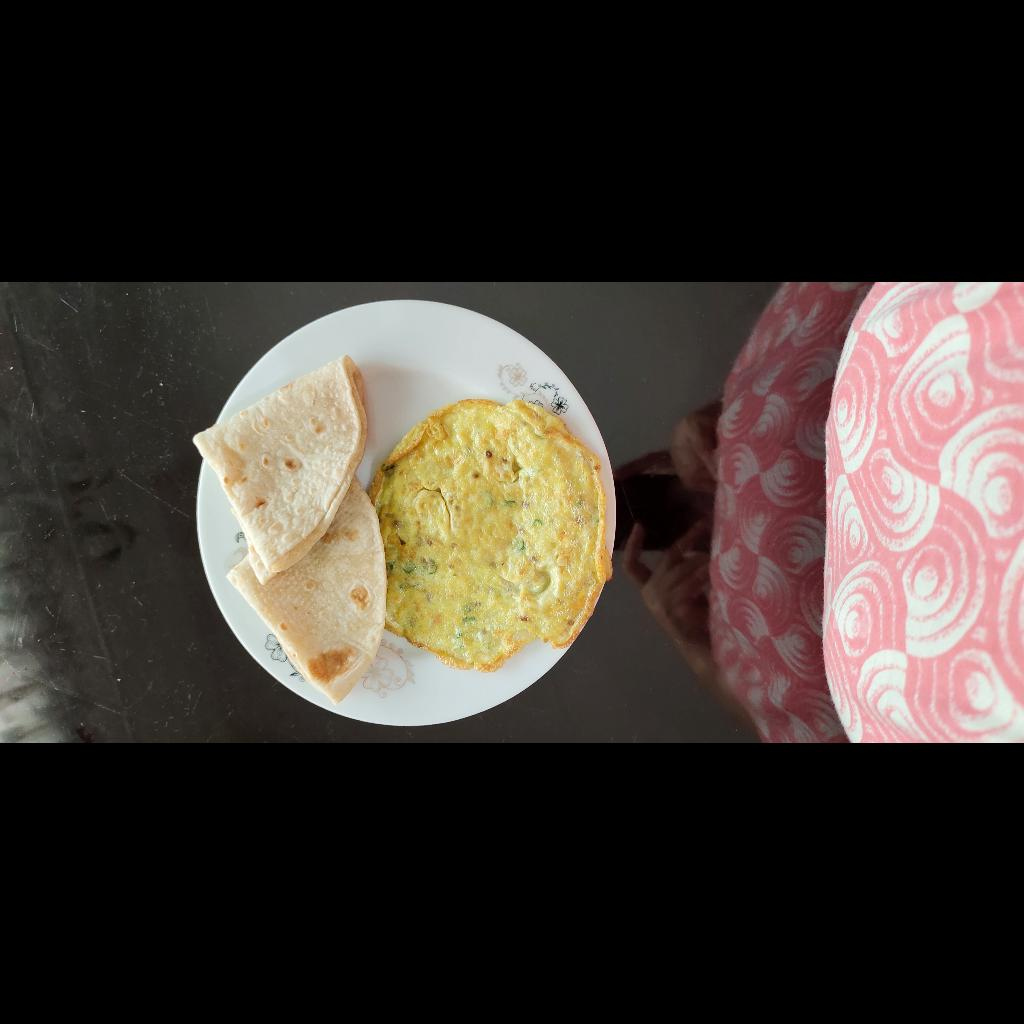egg-poached: (69, 648, 346, 888)
ruti: (38, 475, 394, 667)
